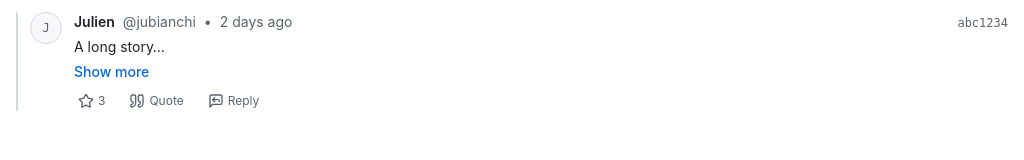
Test case: CommitItem › folds a long body to its excerpt, with Show more to unfold it in place
Click the button "Show more" at (112, 72), box [74,62,149,82]
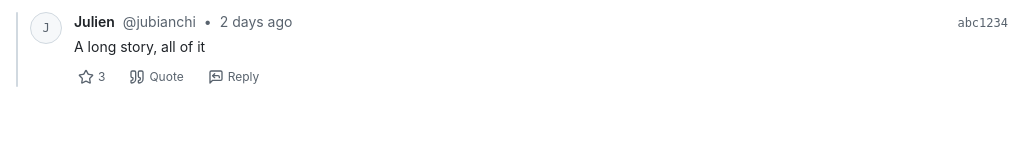
Expected: the text "A long story, all of it" is shown, [74,38,205,55]
